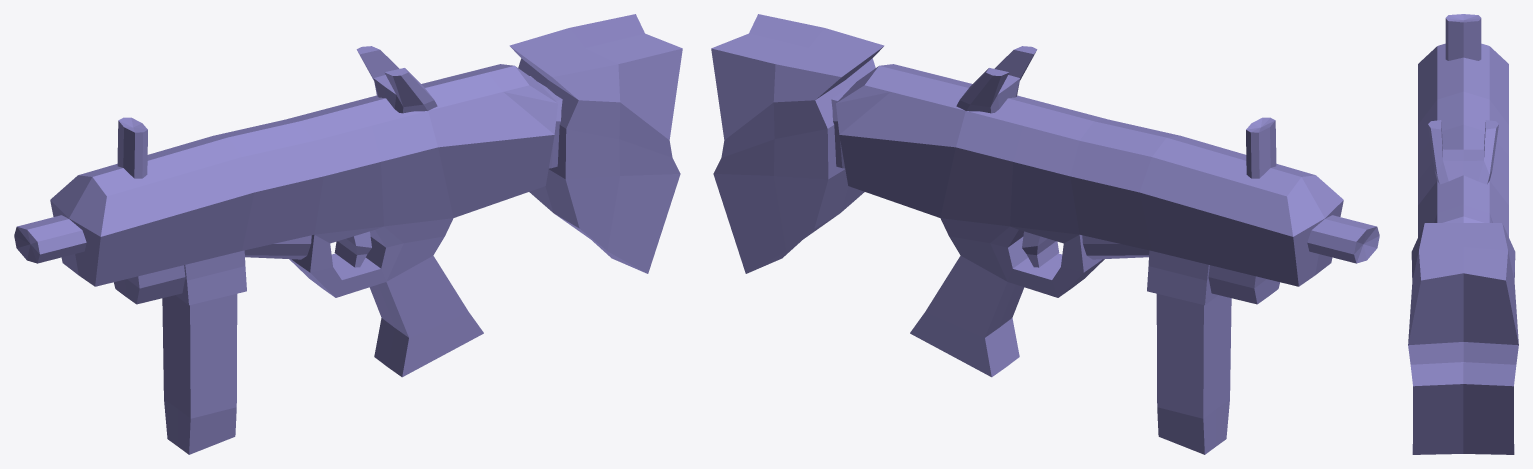
Rendered from GunCyber.fbx.
3 renders of one model, left to right at view 1: azimuth 30°, elevation 25°; view 2: azimuth 150°, elevation 25°; view 3: azimuth 270°, elevation 25°, orthographic. The views are drawn at different scales.
Visible parts, largest first — view 1: Cube; view 2: Cube; view 3: Cube.
Boxes of the visible parts, <box> form: Cube: <box>14,14,682,454</box>; Cube: <box>711,14,1379,454</box>; Cube: <box>1408,14,1518,454</box>.
Size of the model in its own units: 861 by 438 by 145.
